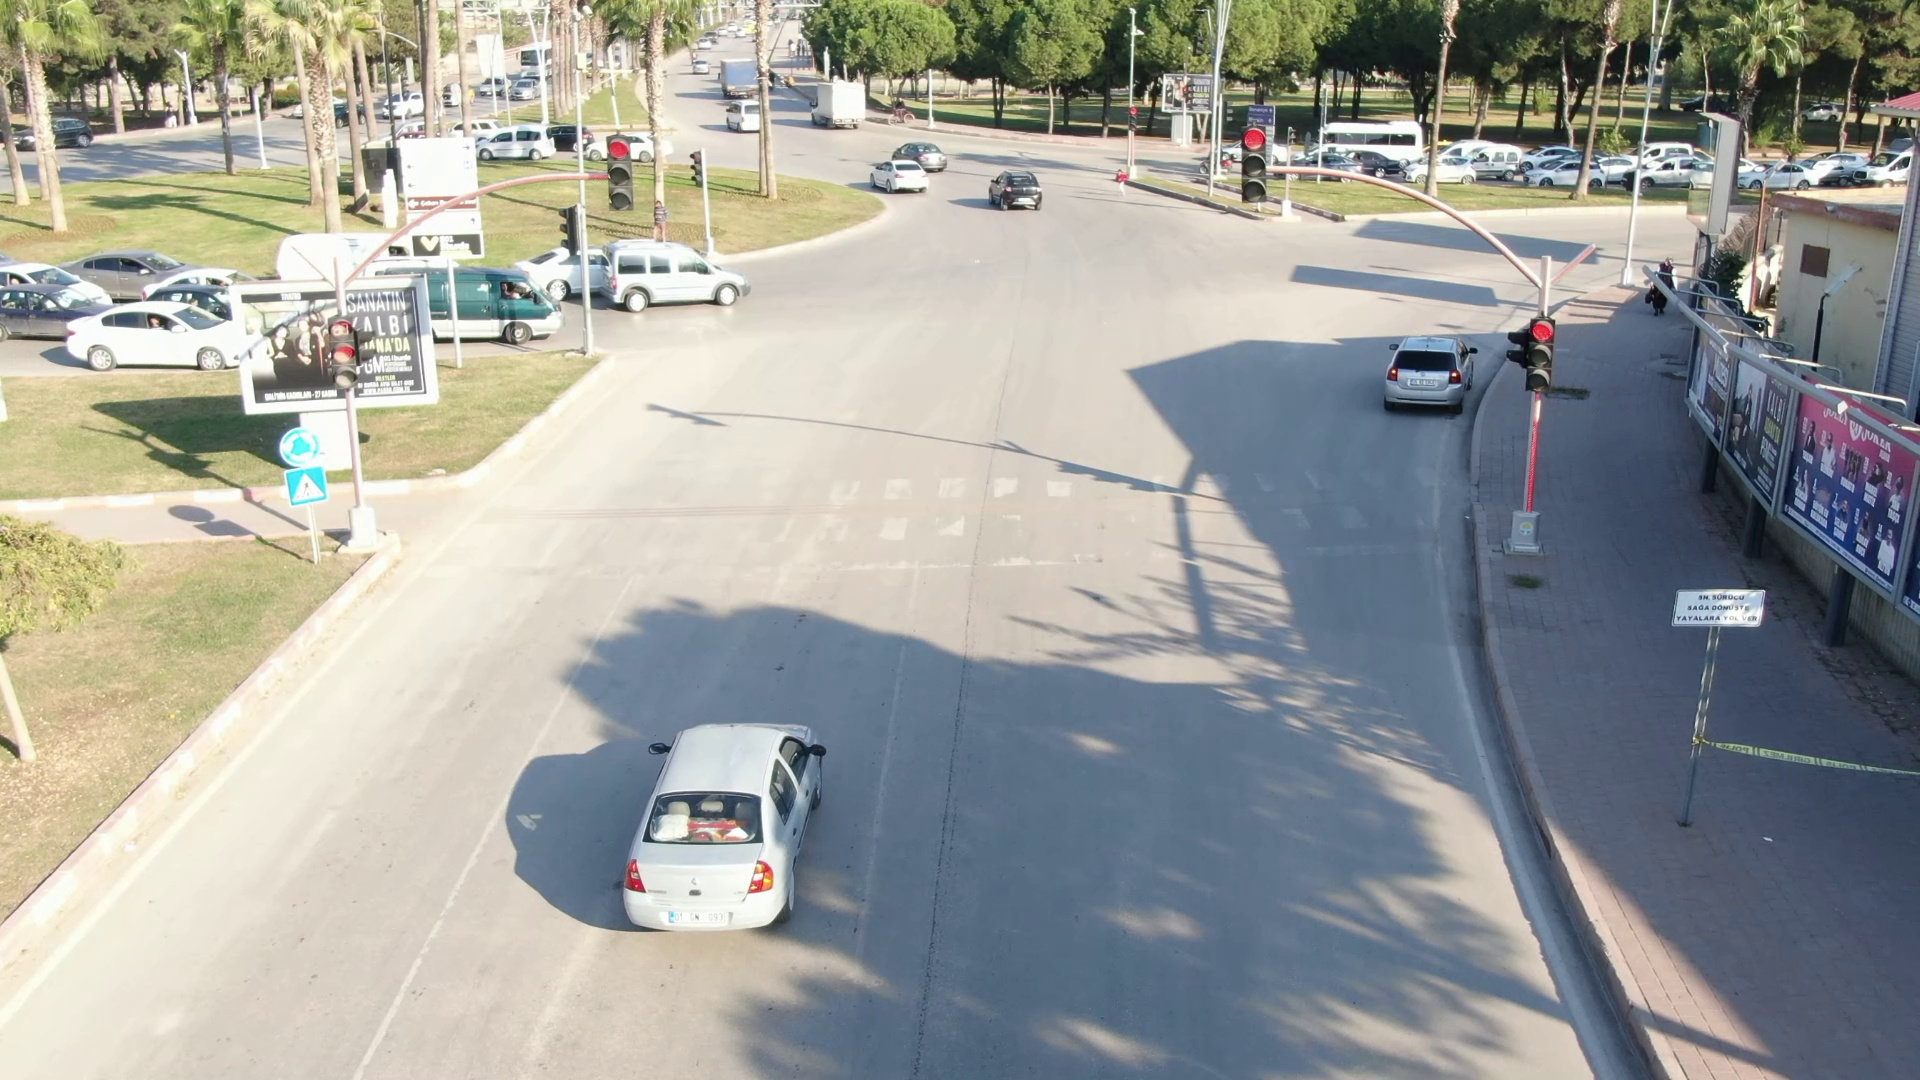car: (582, 700, 855, 963), (596, 229, 749, 315), (1365, 310, 1482, 417), (796, 73, 884, 137), (861, 152, 939, 204), (975, 164, 1050, 216)
